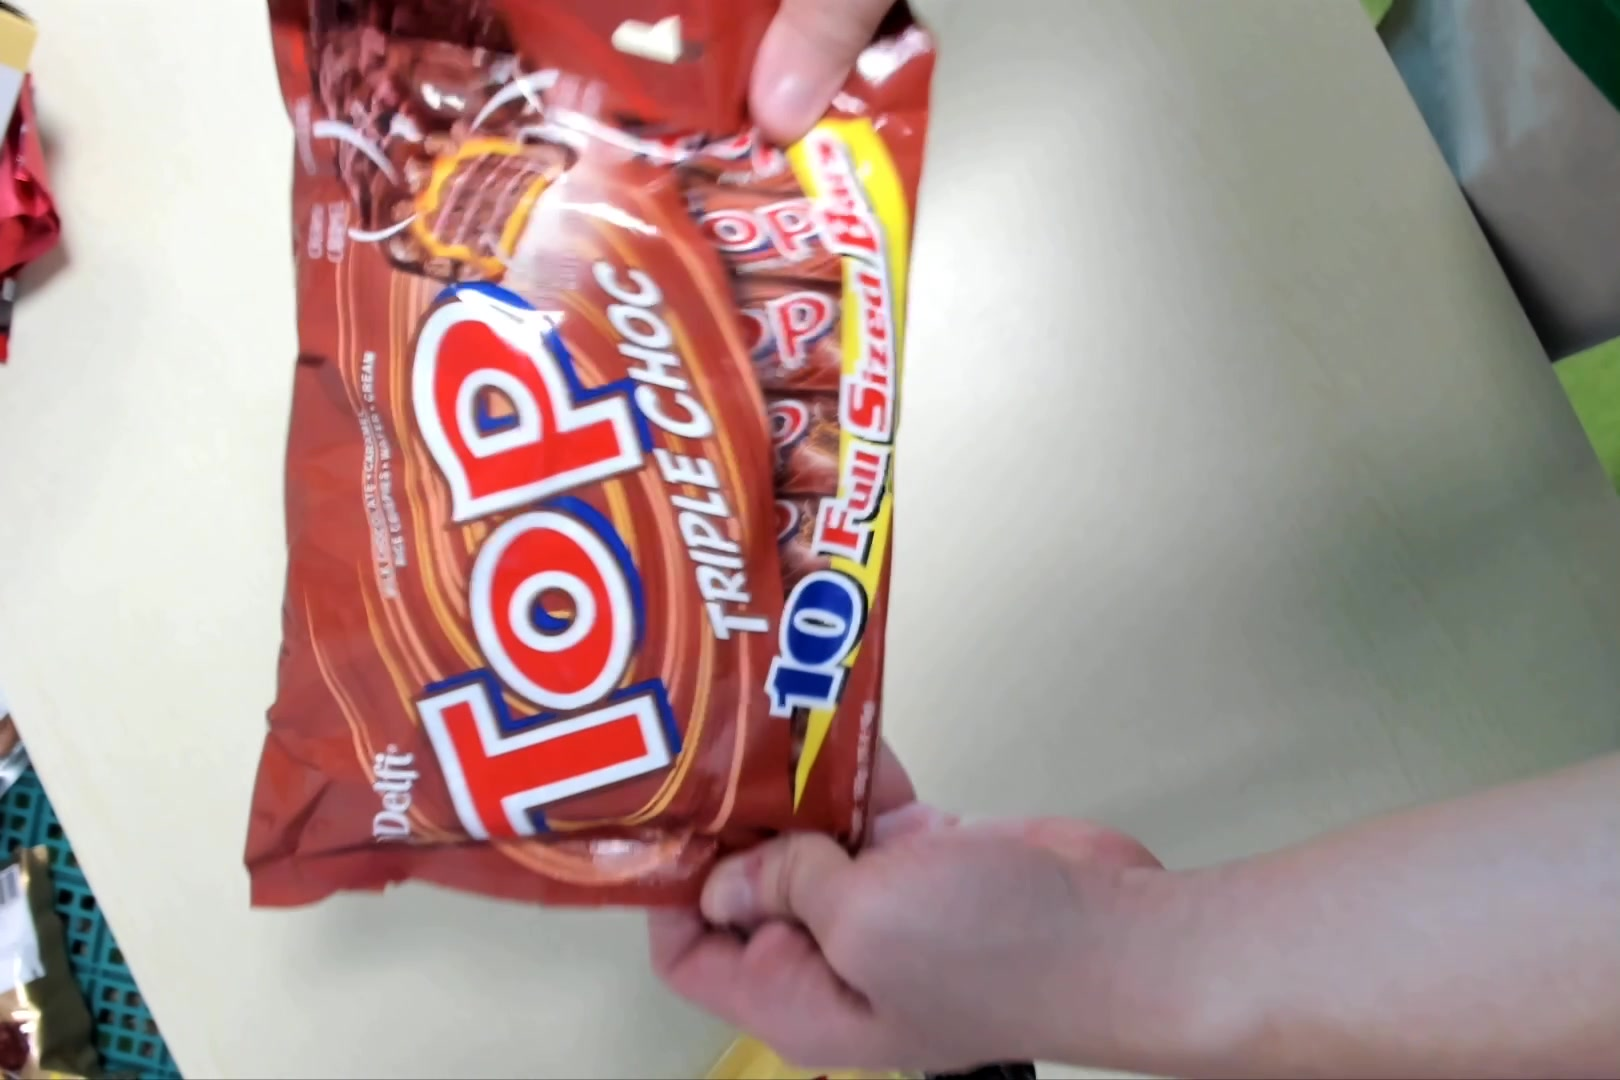SweetsChocolatesOthers_100-199g_NonHalal_NonHealthy: (245, 2, 923, 923)
